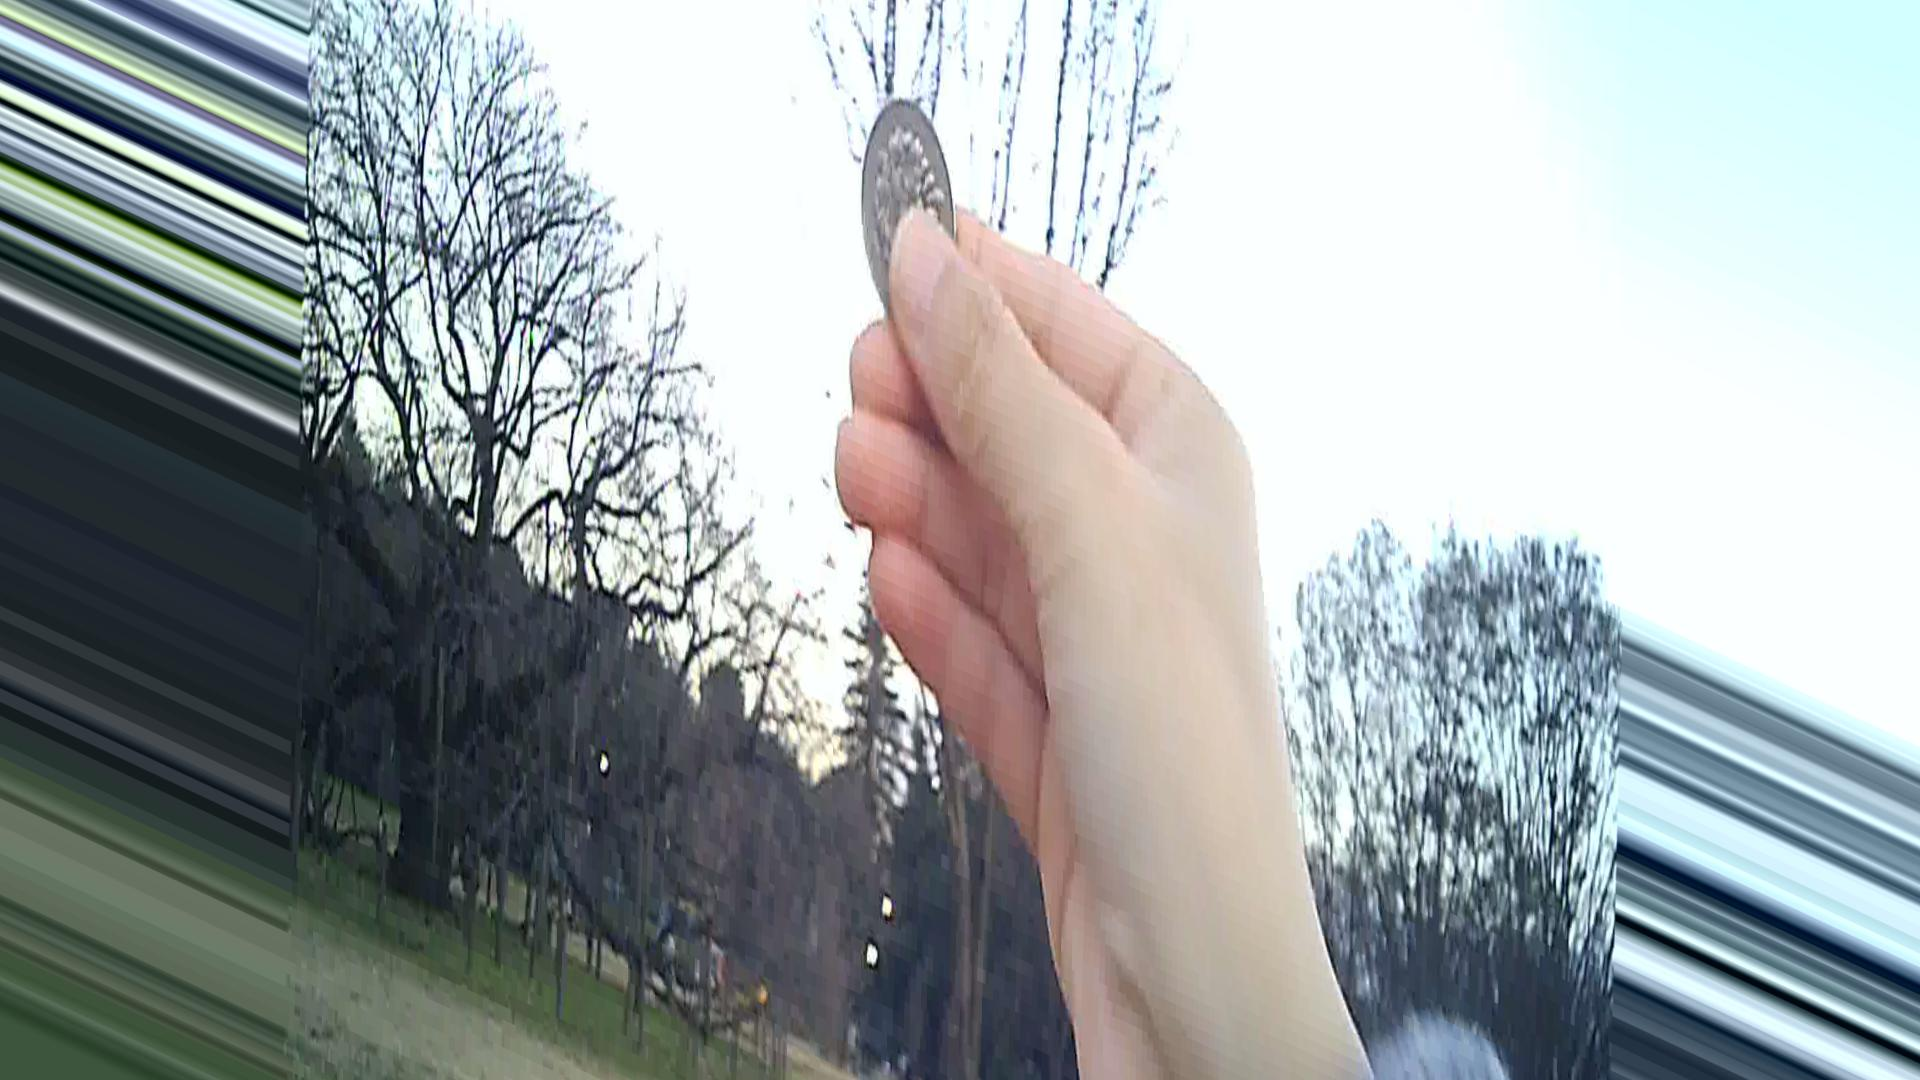100 Yen: (847, 91, 951, 332)
